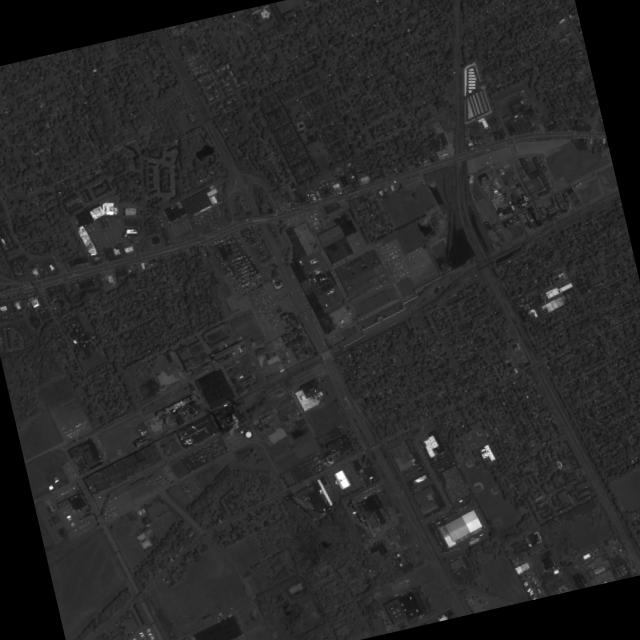storage-tank: (245, 430, 253, 438), (397, 553, 400, 556), (241, 431, 243, 433)
